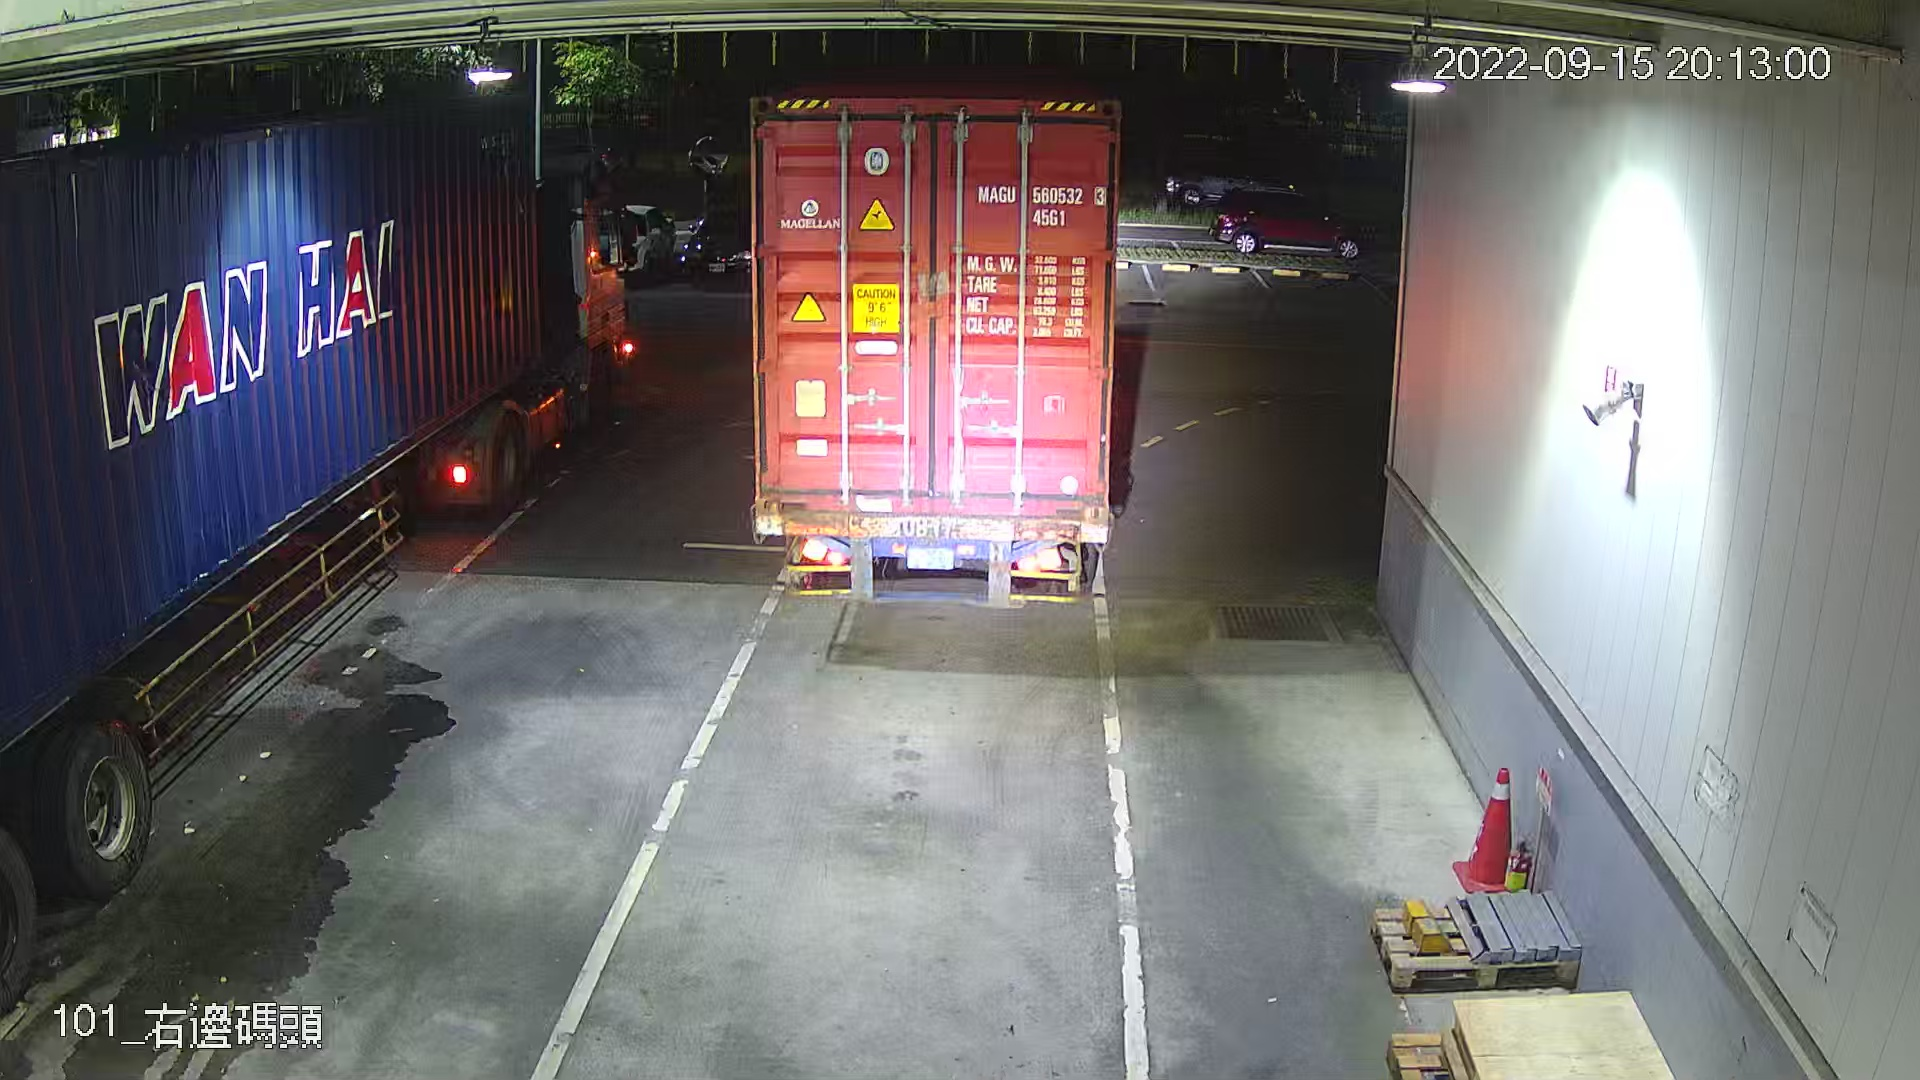container: (967, 173, 1112, 229)
